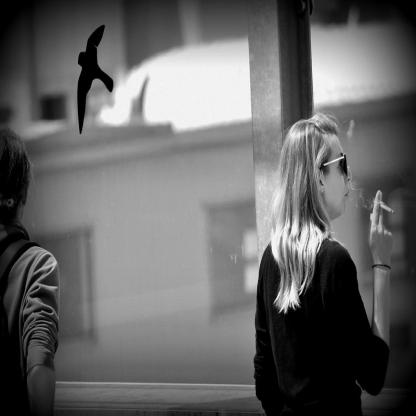smoking: (374, 200, 394, 214)
